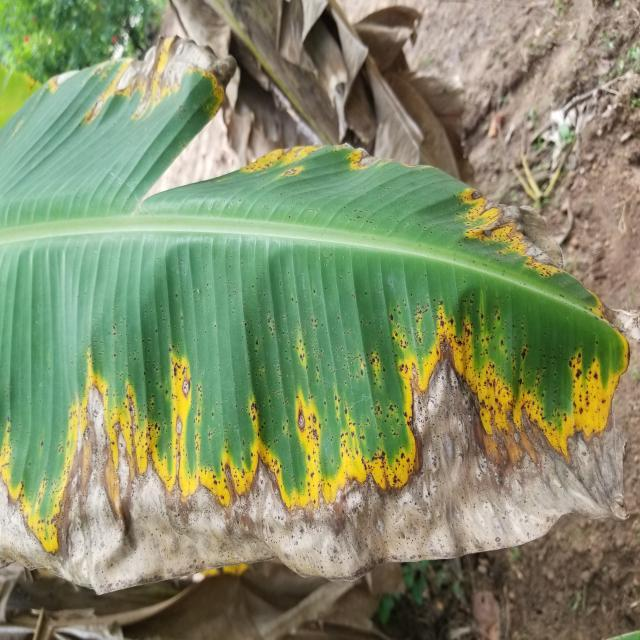Early_rust: (0, 300, 640, 621), (219, 119, 614, 295), (21, 28, 237, 129)
